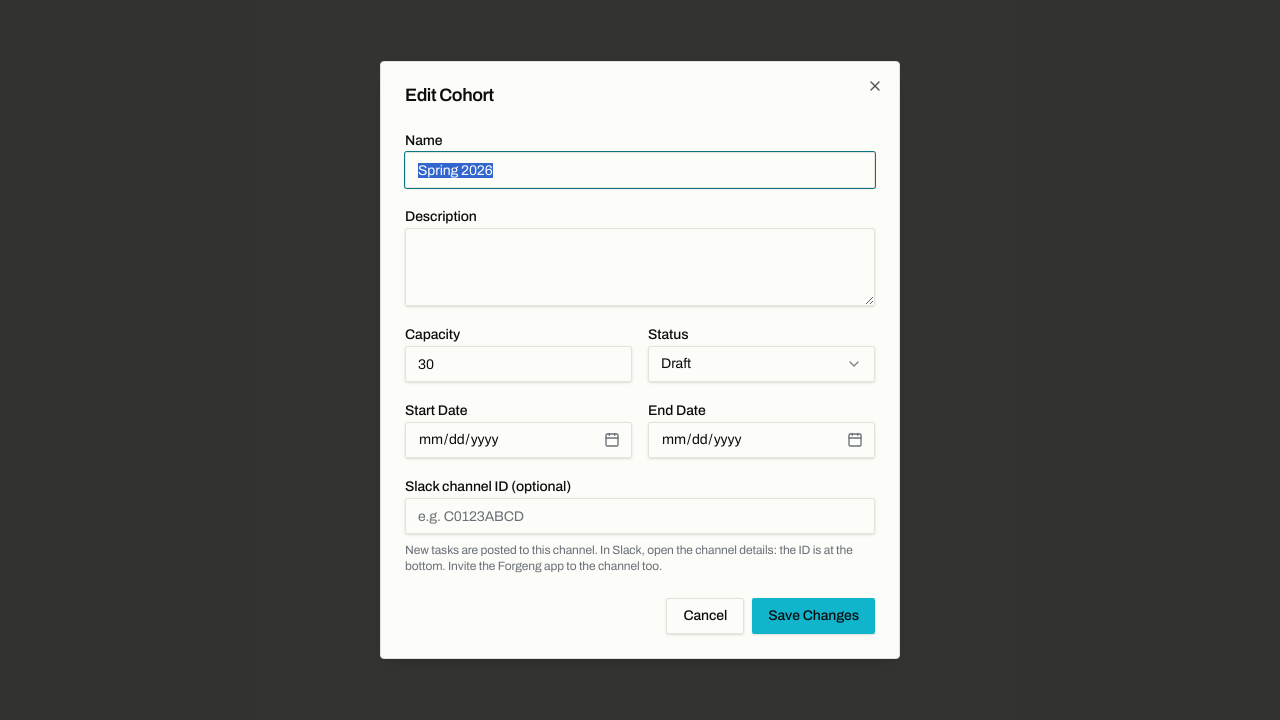
cohort FormDialog › refuses a channel name instead of a channel ID
Type "#spring-cohort" into the field labelled "Slack channel ID (optional)".
click(640, 516); type("#spring-cohort")  # box [405, 498, 875, 534]
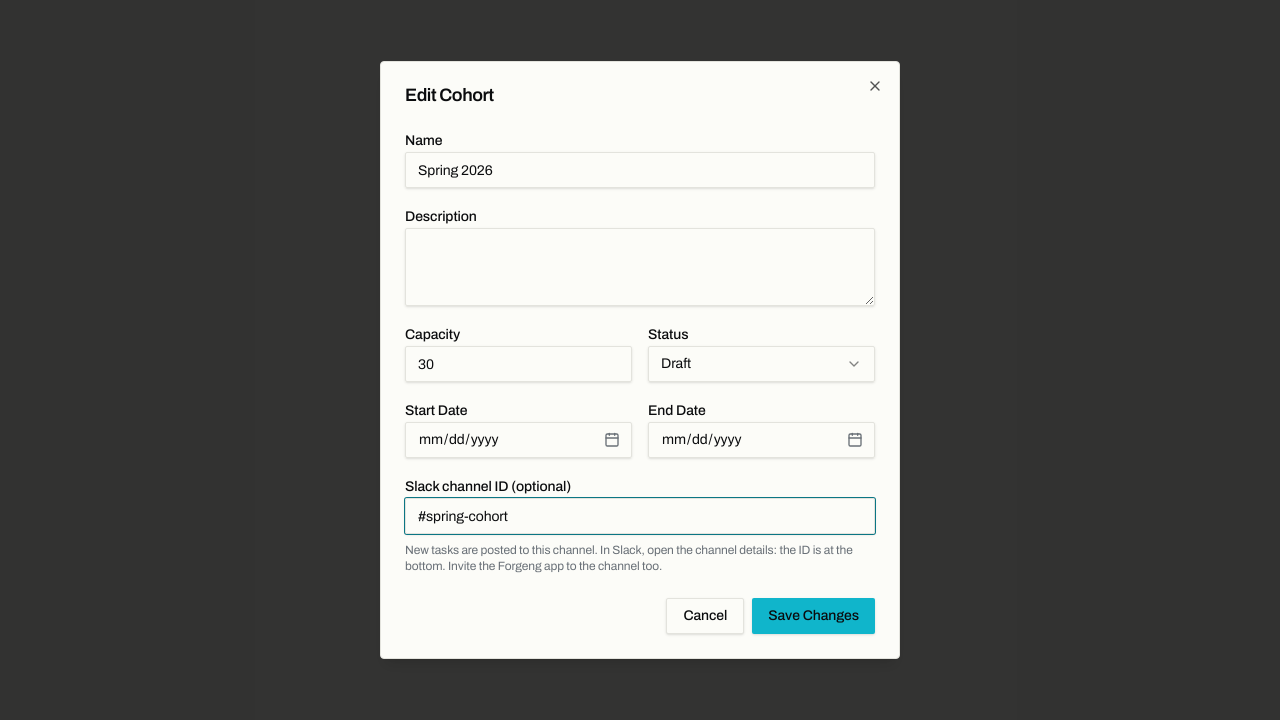
Click the button "Save Changes".
click(814, 616)  # box [752, 598, 875, 634]
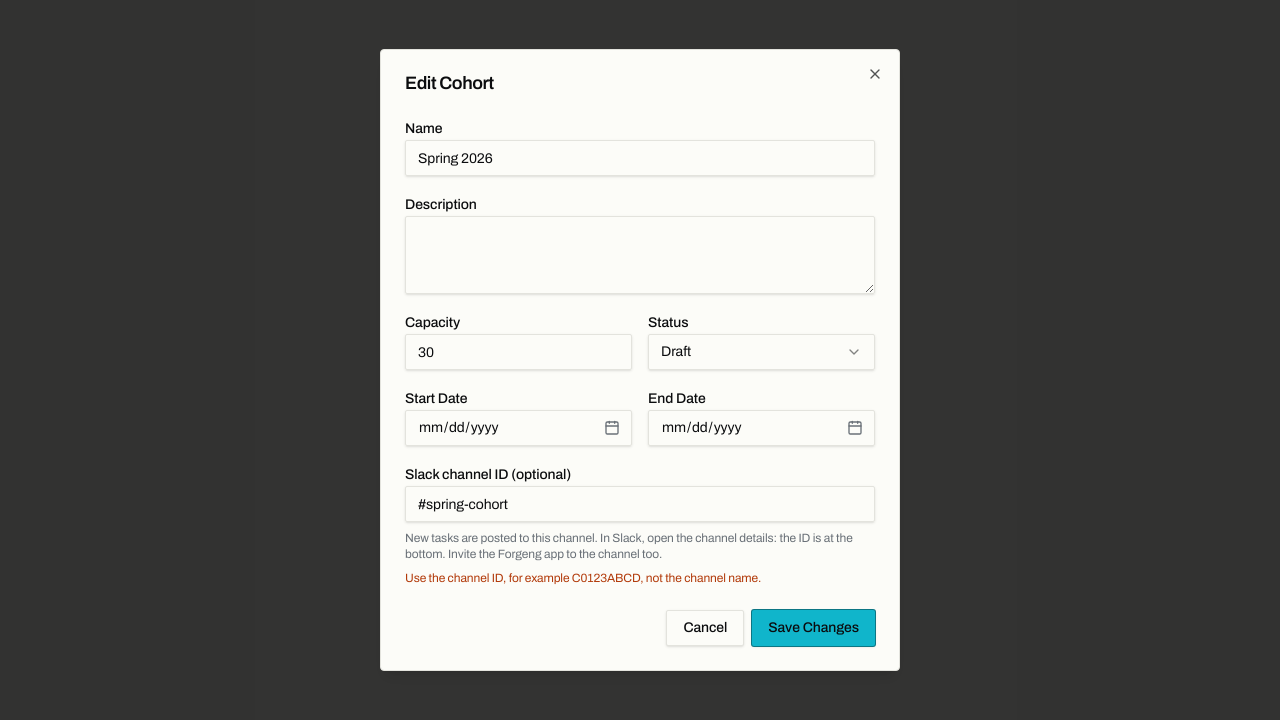
Expected: the text "Use the channel ID, for example C0123ABCD" is shown, [405, 571, 761, 585]
